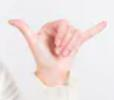clockwise: (6, 11, 109, 67)
